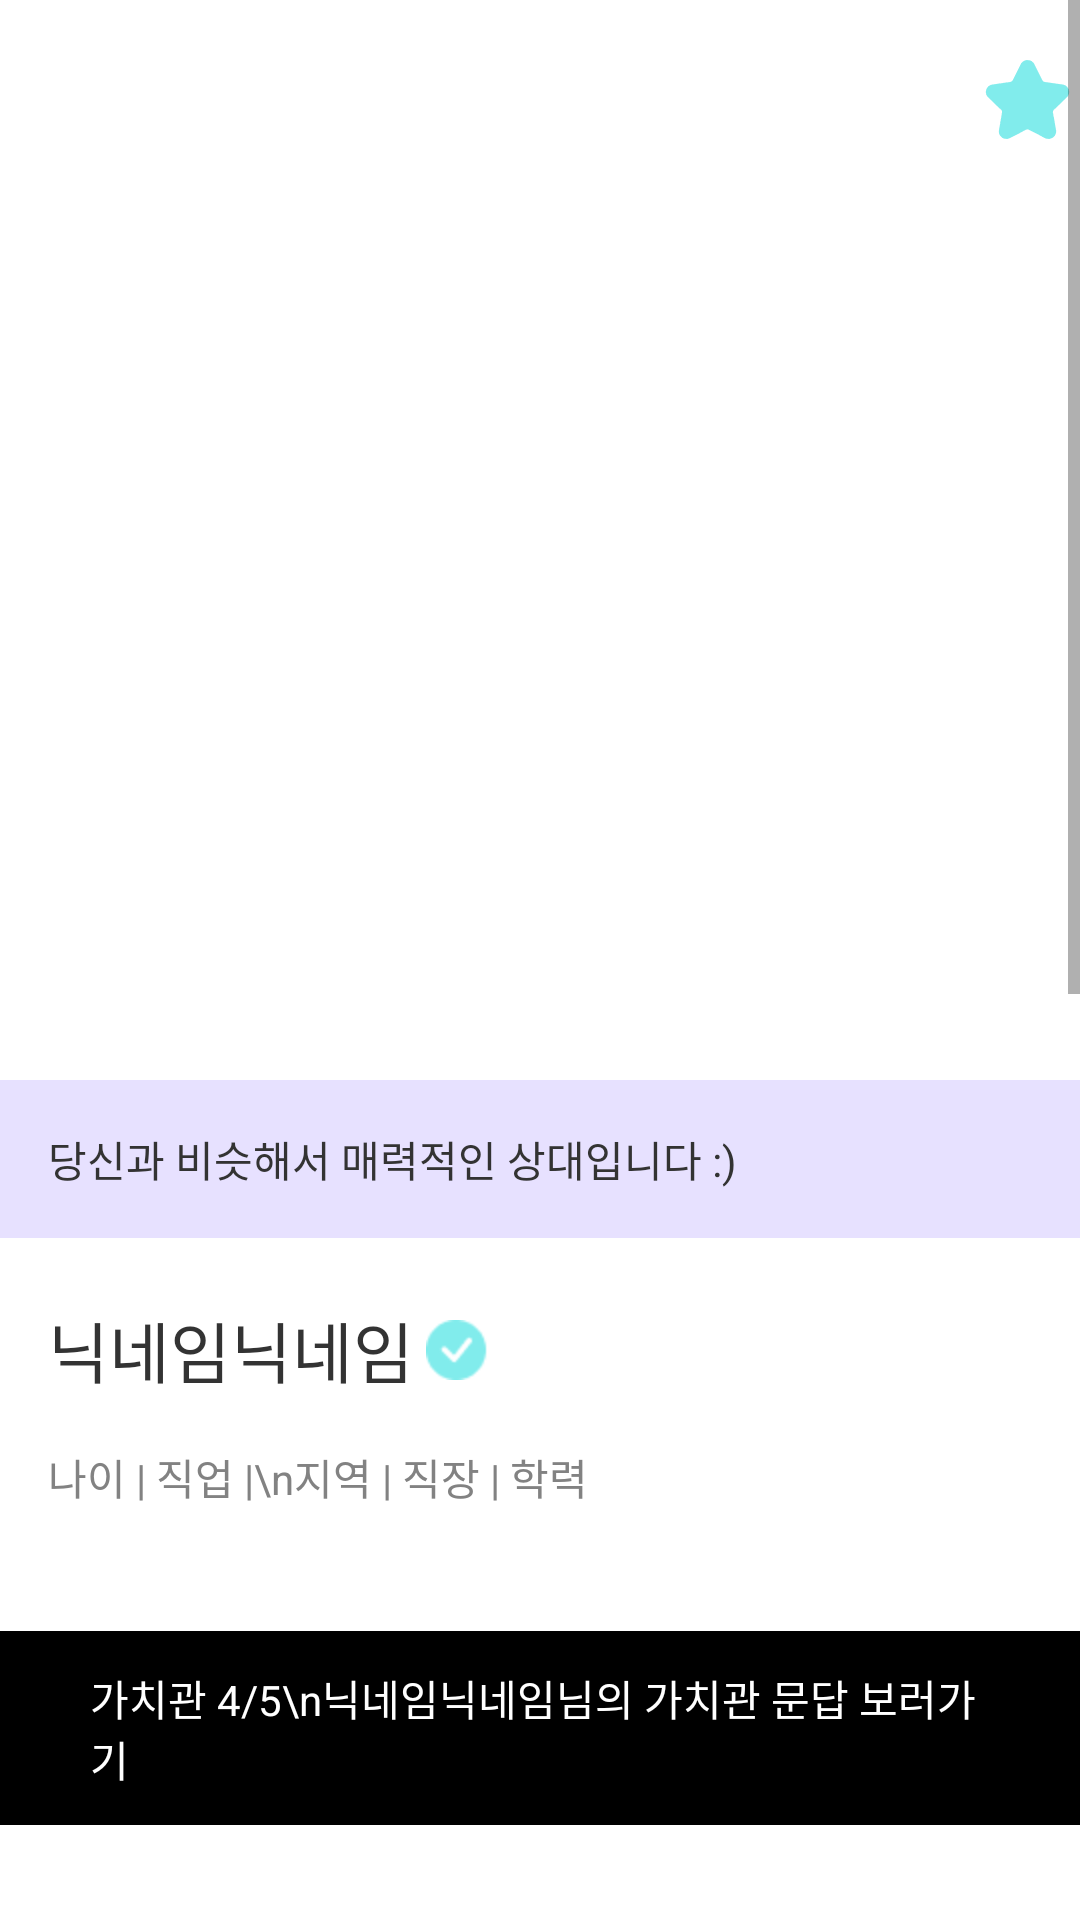

Named icons in this screenshot (1080 × 1920) and their bounding boxes, (x1, y1, x2, y2):
circle check: (426, 1320, 487, 1380)
found star: (986, 47, 1080, 152)
